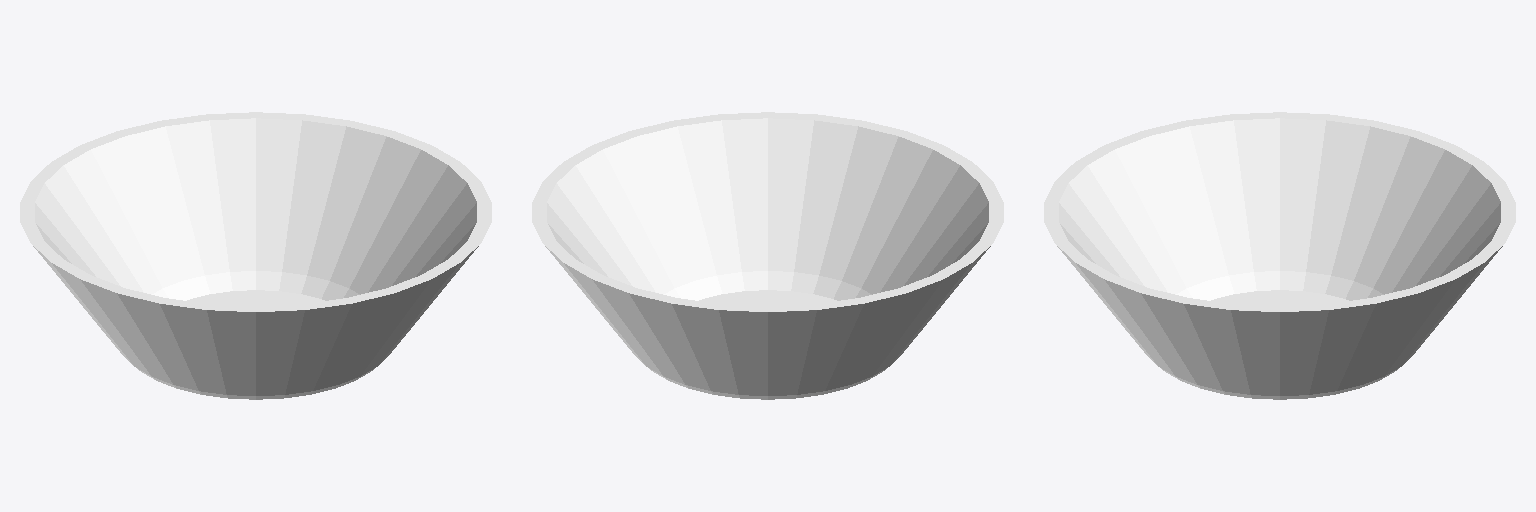
URDF robot description (cube):
<?xml version="1.0"?>
<robot name="cube">
  <!-- Frying pan model, Copyright (c) 2016 [author]       -->
  <!-- LICENSE: CC-SA                                         -->
  <link name="cube">
    <visual>
      <origin rpy="0 0 0" xyz="0 0 0"/>
      <geometry>
        <mesh filename="plate.obj" scale="0.75 0.75 0.75"/>
      </geometry>
      <material name="white">  <!-- forces it to actually use the image for its colour -->
        <color rgba="1 1 1 1"/>
      </material>
    </visual>

    <collision>  <!-- bottom -->
      <geometry>
        <cylinder radius="0.05" length="0.005"/>
      </geometry>
      <origin rpy="0 0 0" xyz="0 0 0.0025"/>
    </collision>

    <collision>
      <geometry>
        <mesh filename="plate-collision01.obj" scale="0.75 0.75 0.75"/>
      </geometry>
      <origin rpy="0 0 0" xyz="0 0 0"/>
    </collision>

    <collision>
      <geometry>
        <mesh filename="plate-collision02.obj" scale="0.75 0.75 0.75"/>
      </geometry>
      <origin rpy="0 0 0" xyz="0 0 0"/>
    </collision>

    <collision>
      <geometry>
        <mesh filename="plate-collision03.obj" scale="0.75 0.75 0.75"/>
      </geometry>
      <origin rpy="0 0 0" xyz="0 0 0"/>
    </collision>

    <collision>
      <geometry>
        <mesh filename="plate-collision04.obj" scale="0.75 0.75 0.75"/>
      </geometry>
      <origin rpy="0 0 0" xyz="0 0 0"/>
    </collision>

    <collision>
      <geometry>
        <mesh filename="plate-collision05.obj" scale="0.75 0.75 0.75"/>
      </geometry>
      <origin rpy="0 0 0" xyz="0 0 0"/>
    </collision>

    <collision>
      <geometry>
        <mesh filename="plate-collision06.obj" scale="0.75 0.75 0.75"/>
      </geometry>
      <origin rpy="0 0 0" xyz="0 0 0"/>
    </collision>

    <inertial>
      <mass value="0.1"/>  <!-- mr^2 = 0.5*0.12^2 = 0.0072 for Z axis, lighter along other axis -->
      <inertia ixx="0.005" iyy="0.005" izz="0.0072"/>
    </inertial>
  </link>

</robot>

--- Facts derived from the render (not from the file) ---
3 views of the same robot in one strip: view 1: azimuth 30°, elevation 25°; view 2: azimuth 150°, elevation 25°; view 3: azimuth 270°, elevation 25° (orthographic).
Robot: cube — 1 links, 0 joints (none); root link cube; default pose: every joint at zero.
Links seen in each view (by area): view 1: cube; view 2: cube; view 3: cube.
Boxes of the visible links, left/top/right/bottom form: cube: left=20, top=112, right=491, bottom=399; cube: left=532, top=112, right=1003, bottom=399; cube: left=1044, top=112, right=1515, bottom=399.
Bounding box of the posed robot: 0.147 × 0.1462 × 0.045 m (x, y, z).
Meshes: 1 distinct files referenced, 1 mesh visuals loaded (1 OBJ).